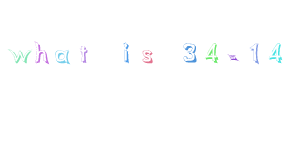-: (226, 48, 241, 69)
1: (248, 41, 263, 66)
3: (180, 40, 200, 69)
4: (201, 41, 224, 67), (267, 42, 287, 65)
a: (53, 48, 75, 70)
h: (33, 40, 52, 70)
i: (111, 39, 135, 67)
s: (138, 44, 157, 71)
t: (74, 41, 93, 66)
w: (5, 43, 32, 70)
